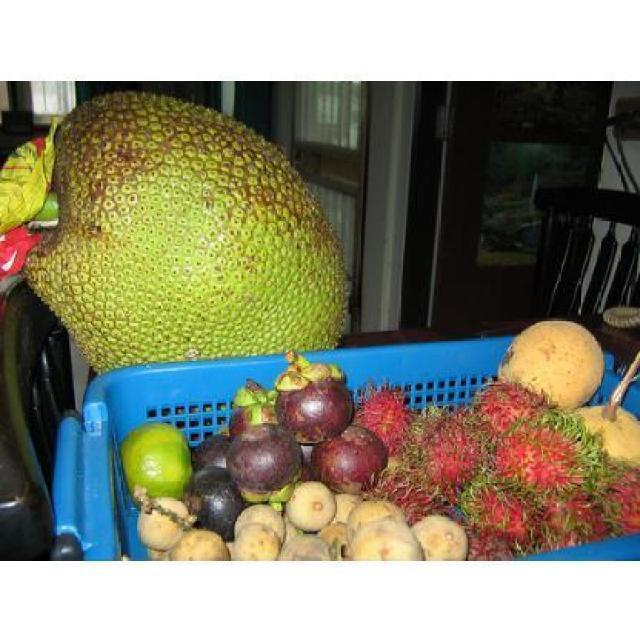Jackfruit: (20, 90, 346, 376)
